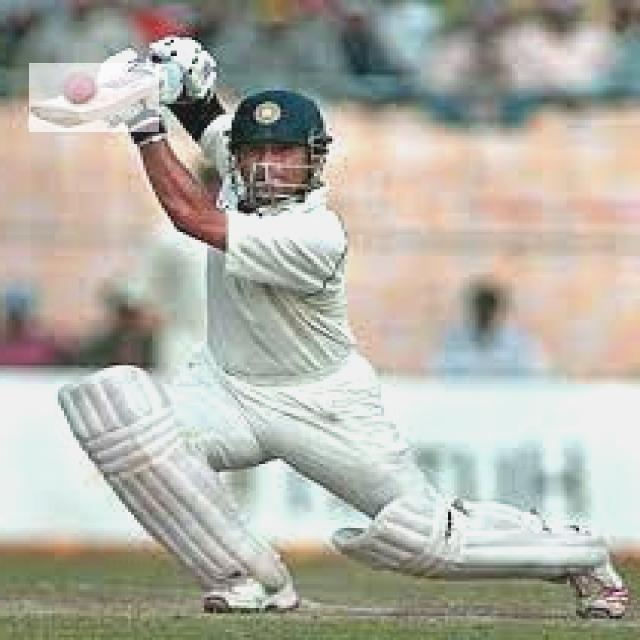bat: (29, 60, 161, 134)
toe: (30, 105, 92, 127)
